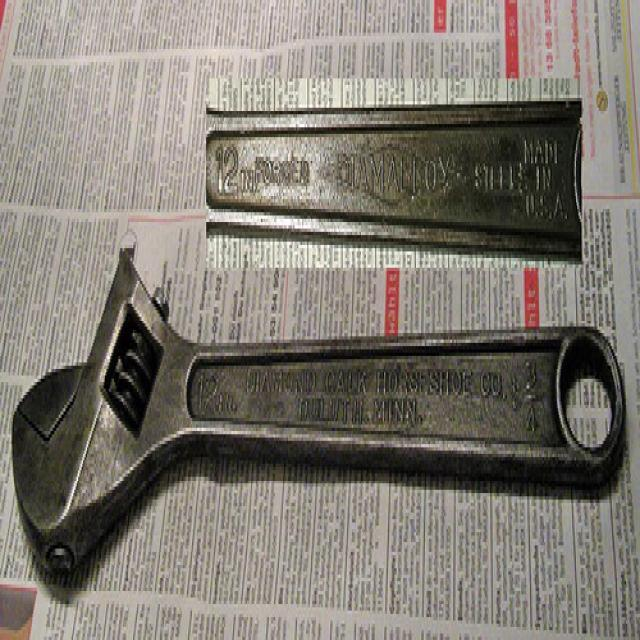wrench: (5, 234, 632, 586)
